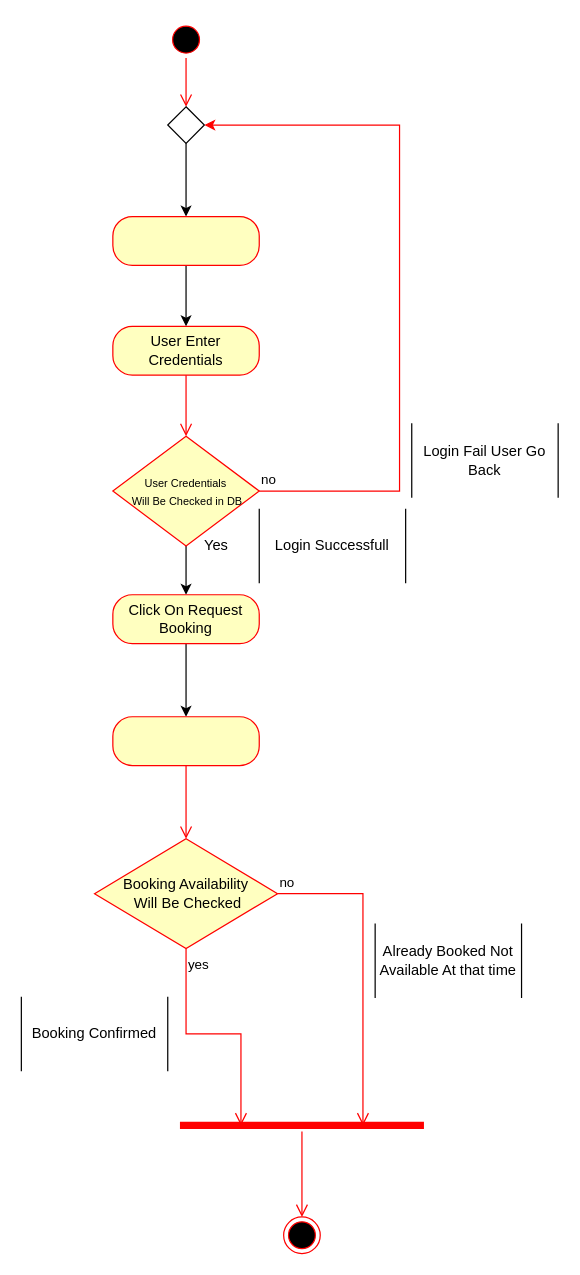
This 580x1275 diagram has some shape labels left out. Each missing label, with the centre of its shape:
Click On Login: point 185,240
Enter Booking Details: point 185,741
